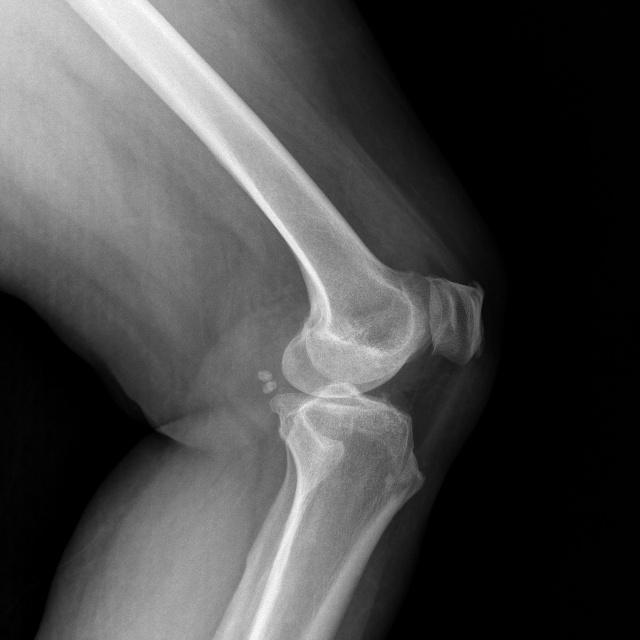Knee: (279, 272, 485, 459)
